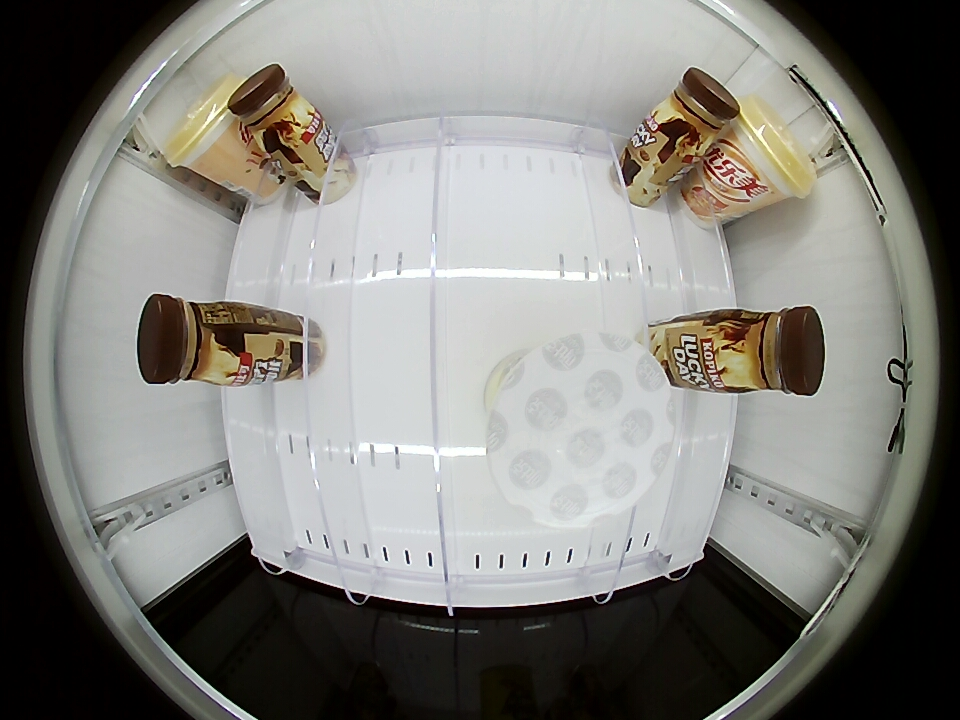kebike: (485, 330, 674, 525)
lujikafei: (712, 306, 826, 397), (137, 295, 245, 388), (653, 67, 739, 154), (228, 62, 310, 146)
youlemei: (724, 94, 815, 205), (165, 73, 243, 174)
